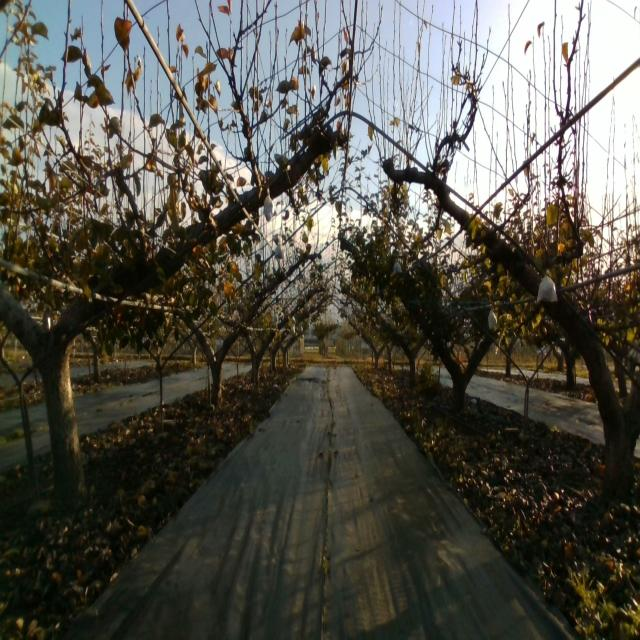pearbags: (536, 269, 558, 304), (262, 188, 274, 221), (274, 241, 286, 260)
